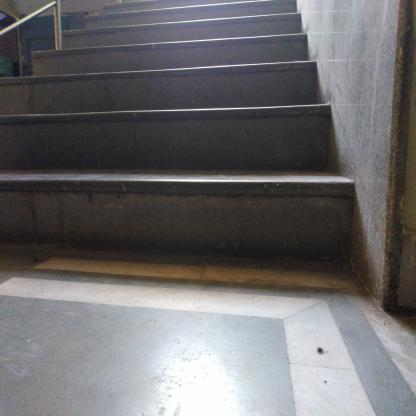stairs: (85, 4, 298, 265)
